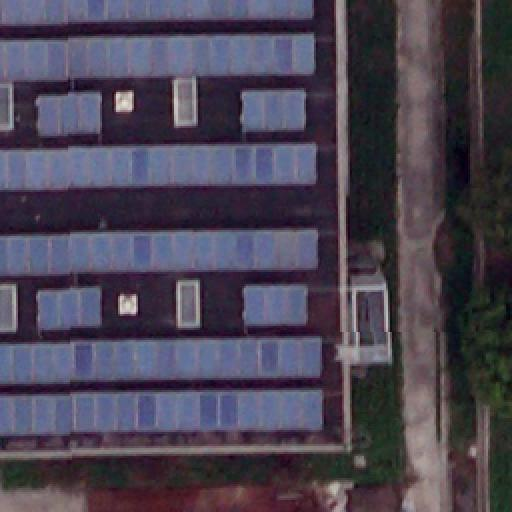solar-panel: (0, 335, 324, 385), (0, 227, 320, 277), (0, 31, 316, 81), (0, 388, 324, 436), (0, 145, 320, 191), (0, 0, 316, 26), (36, 93, 100, 139), (36, 286, 100, 330), (242, 88, 306, 132), (243, 286, 309, 326)
